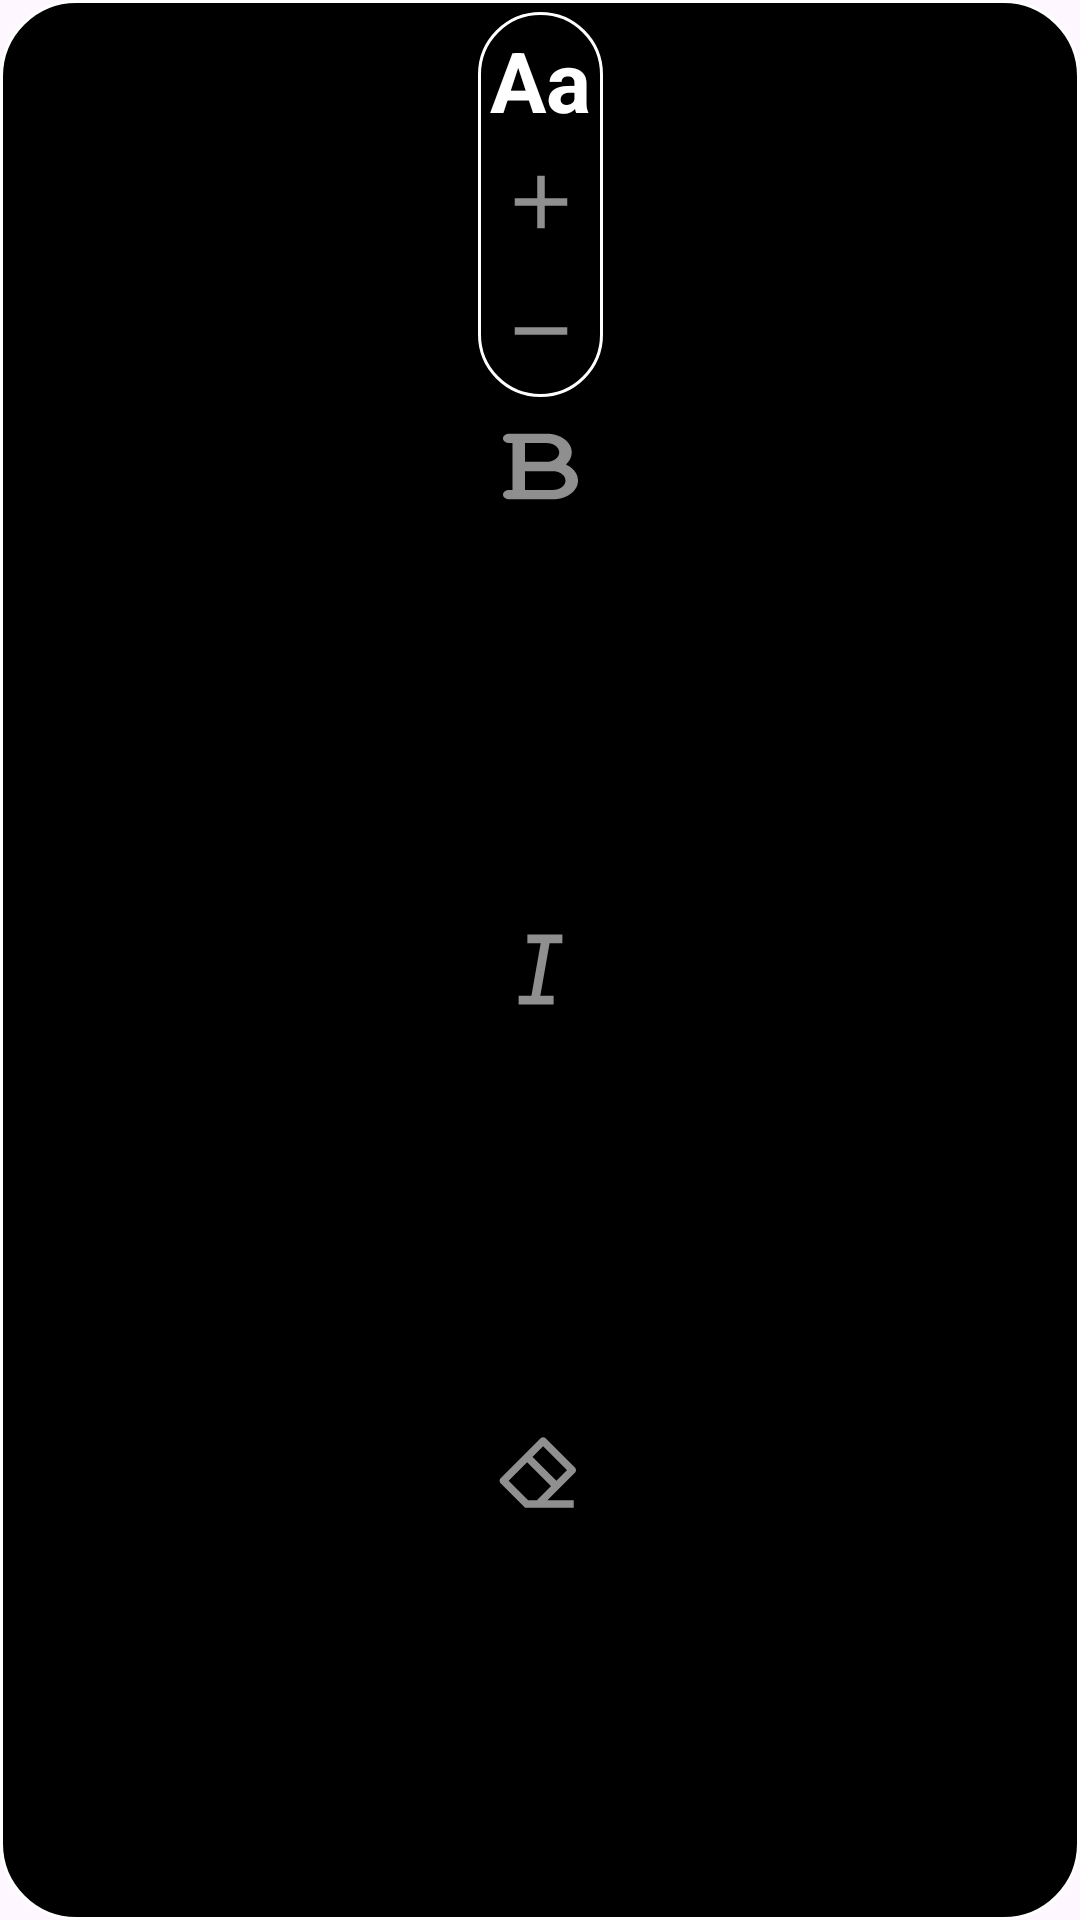

Named icons in this screenshot (1080 × 1920) and their bounding boxes, box(x1, y1, x2, y2):
erase: box(499, 1437, 576, 1508)
italic: box(518, 934, 563, 1005)
plus: box(514, 175, 568, 229)
